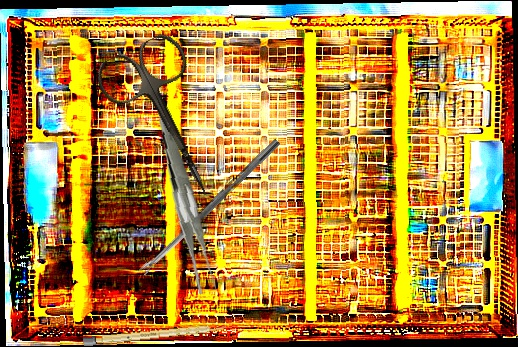Dressing Forceps: (145, 104, 229, 296)
Iris Scissors: (90, 28, 246, 216)
Scalpel Handle: (82, 322, 227, 347)
Surgical Spoon: (138, 137, 281, 276)
